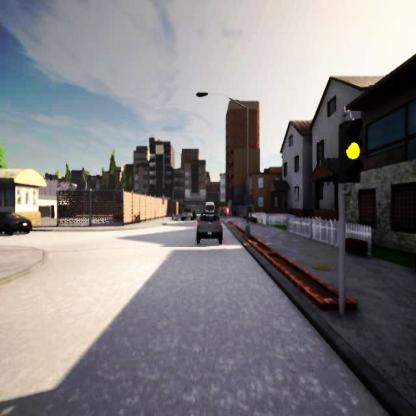vehicle: (196, 214, 223, 244), (0, 212, 32, 236)
